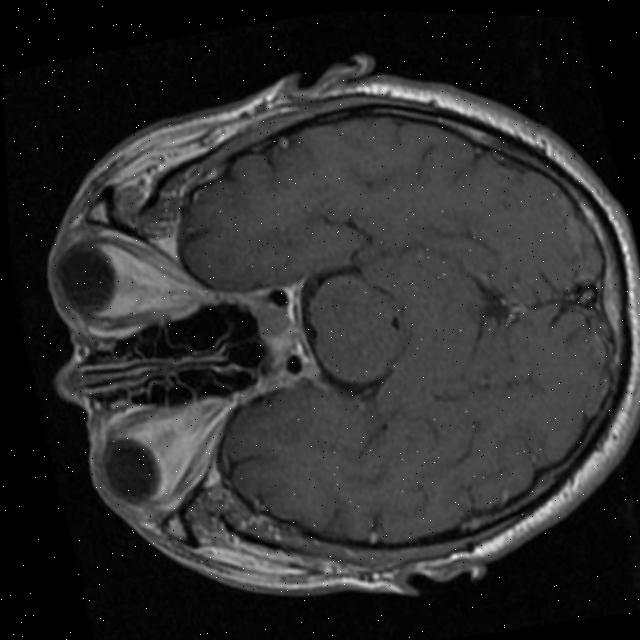Pituitary: (252, 301, 303, 364)
